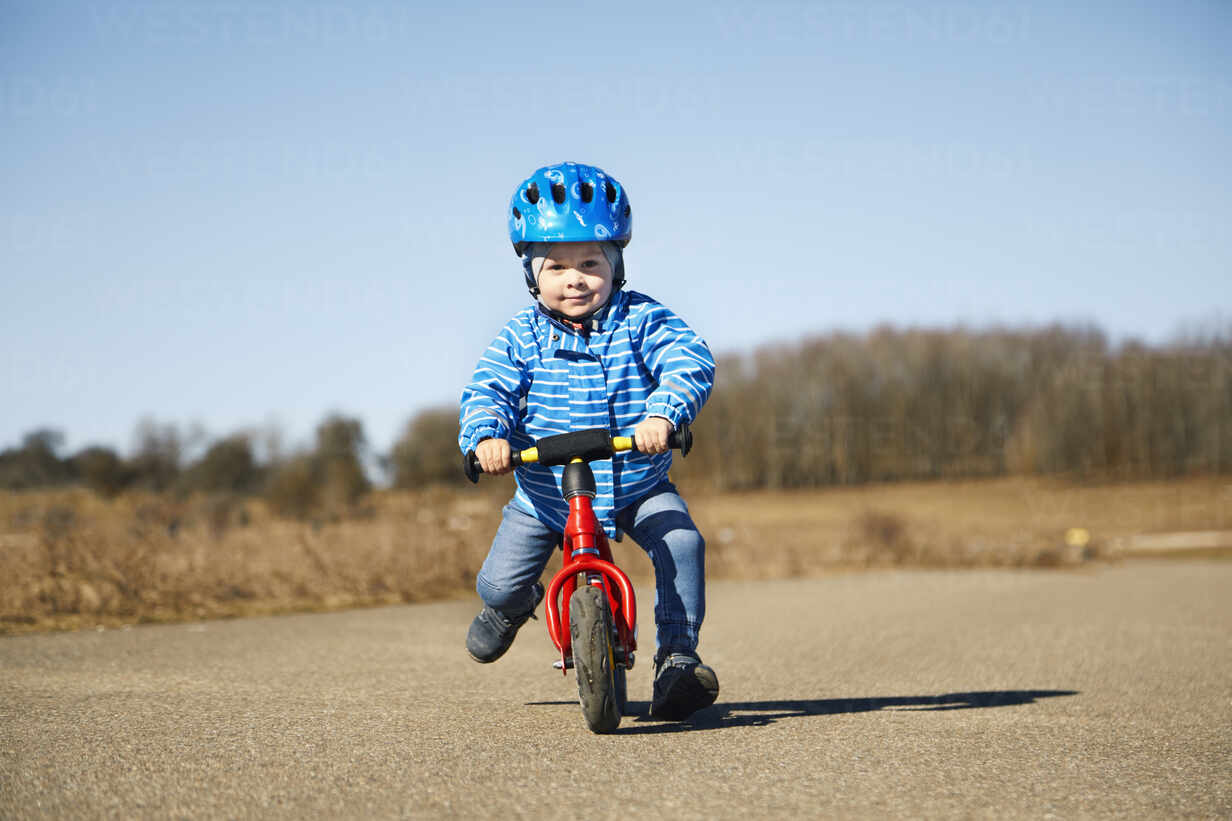helmet: (507, 161, 633, 316)
